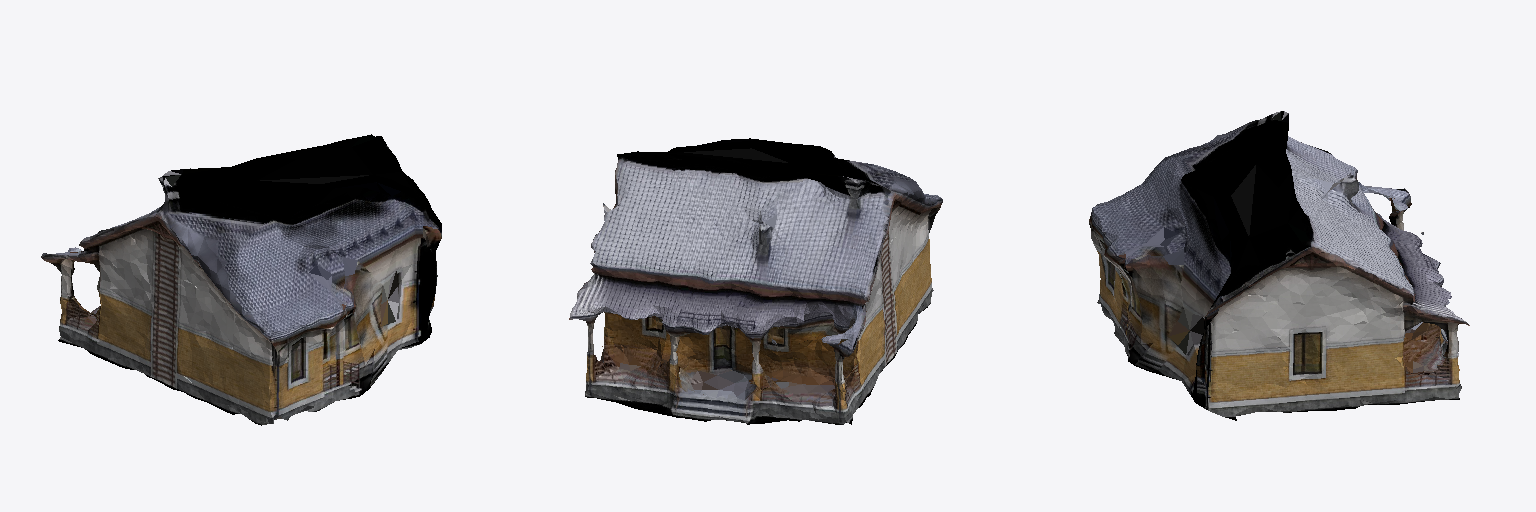
3 renders of one model, left to right at view 1: azimuth 30°, elevation 25°; view 2: azimuth 150°, elevation 25°; view 3: azimuth 270°, elevation 25°, orthographic.
Size of the model in its own units: 14.58 by 9.43 by 16.
1 materials, 1 textured.